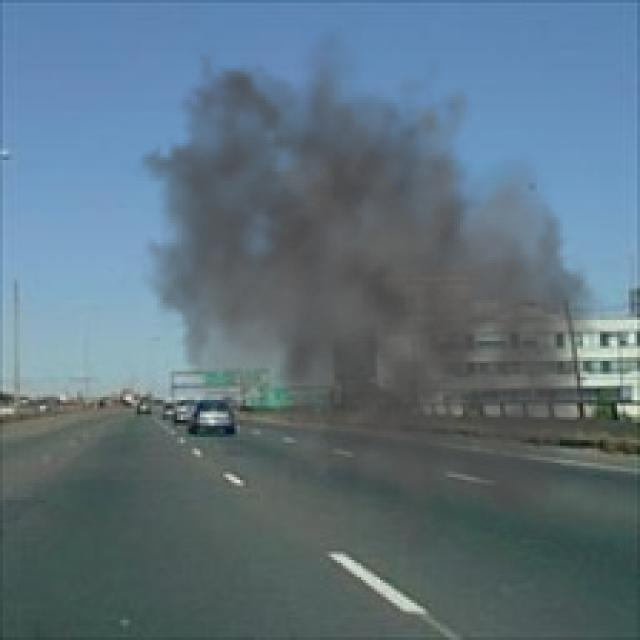Smoke: (105, 26, 638, 560)
